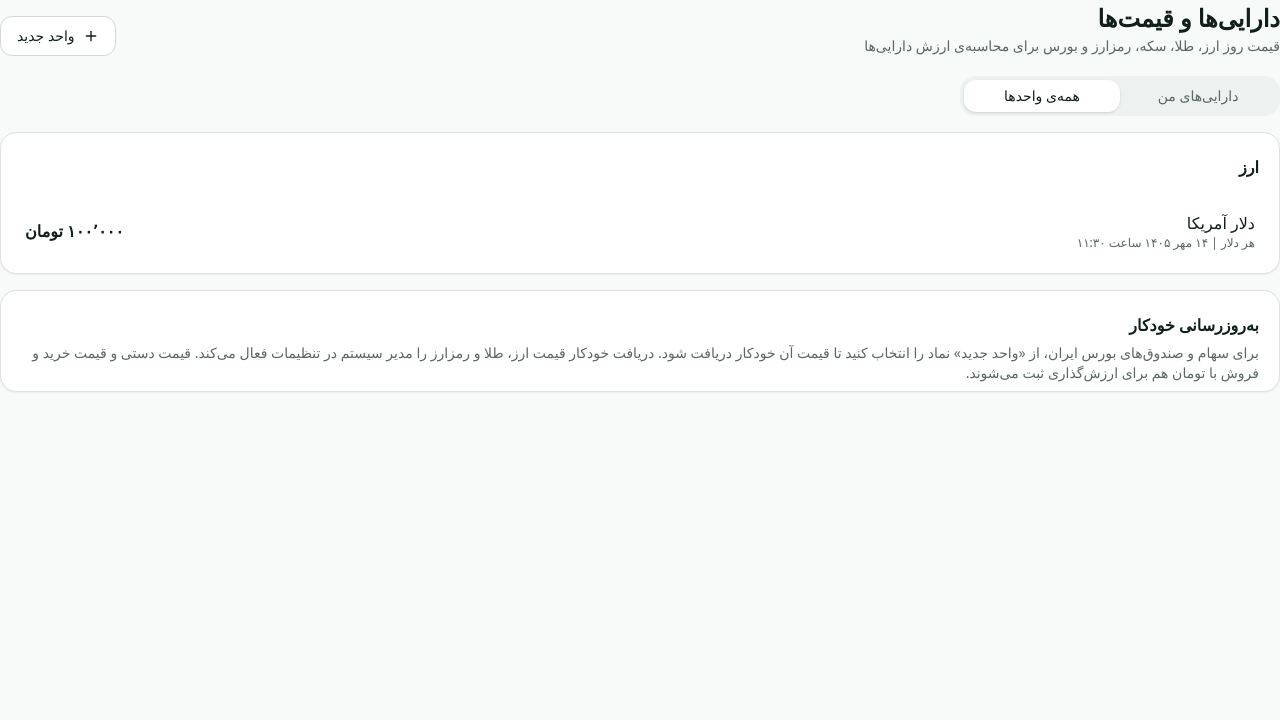
Test case: Iranian securities › clears a selected symbol when the search text changes
This screenshot has width=1280, height=720.
Click the button "واحد جدید": (58, 36) x1=0 y1=16 x2=116 y2=56
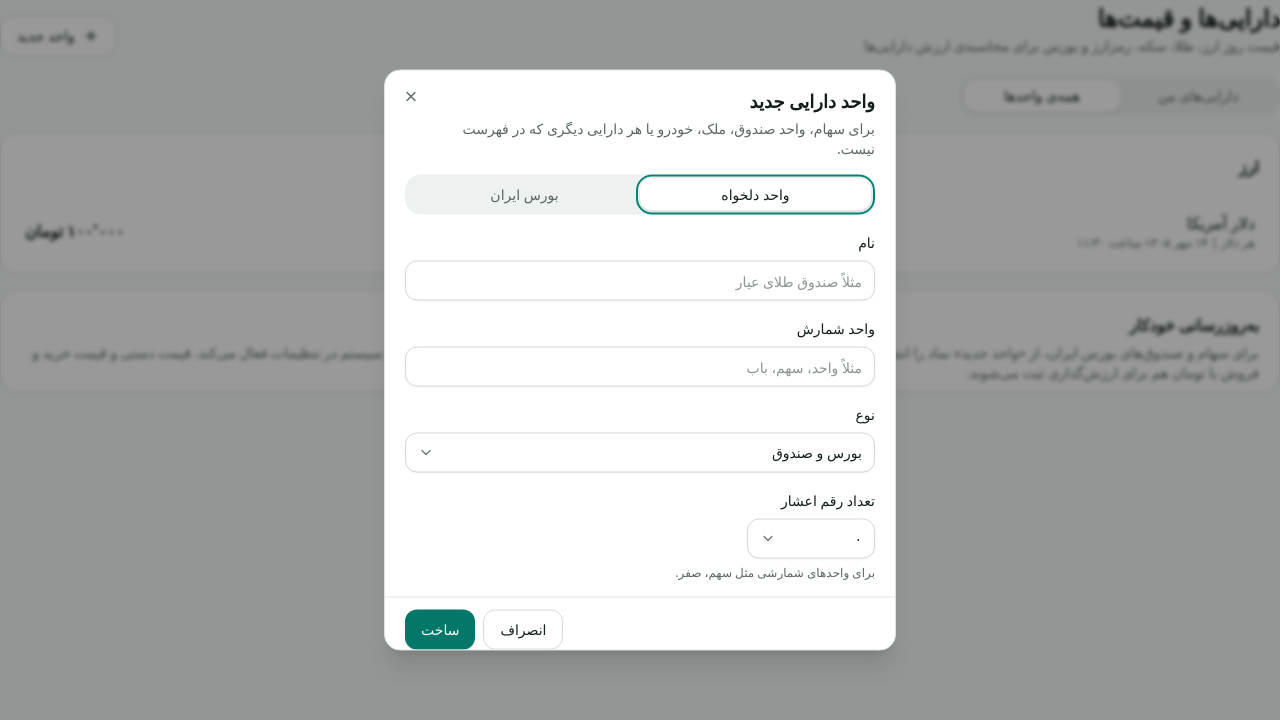
Click the radio button labelled "بورس ایران": (524, 194) x1=409 y1=178 x2=640 y2=210
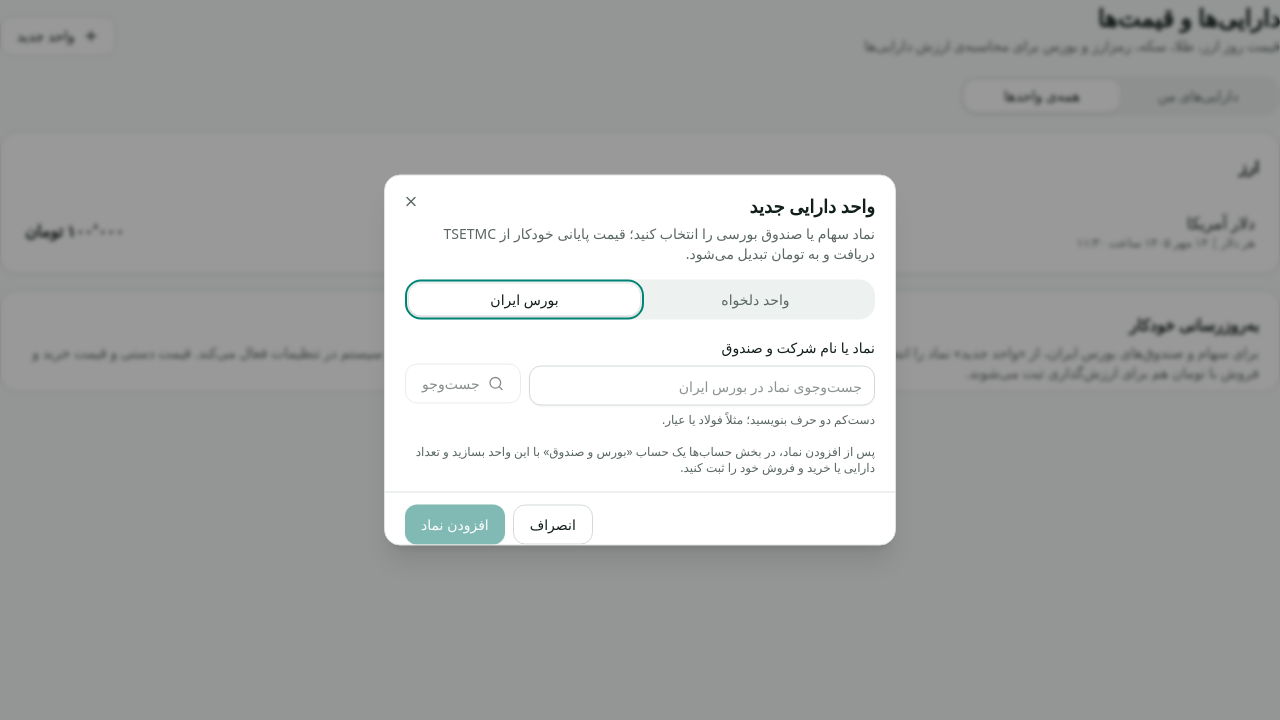
In the field labelled "نماد یا نام شرکت و صندوق": (702, 386) x1=528 y1=366 x2=875 y2=406, type "فولاد"
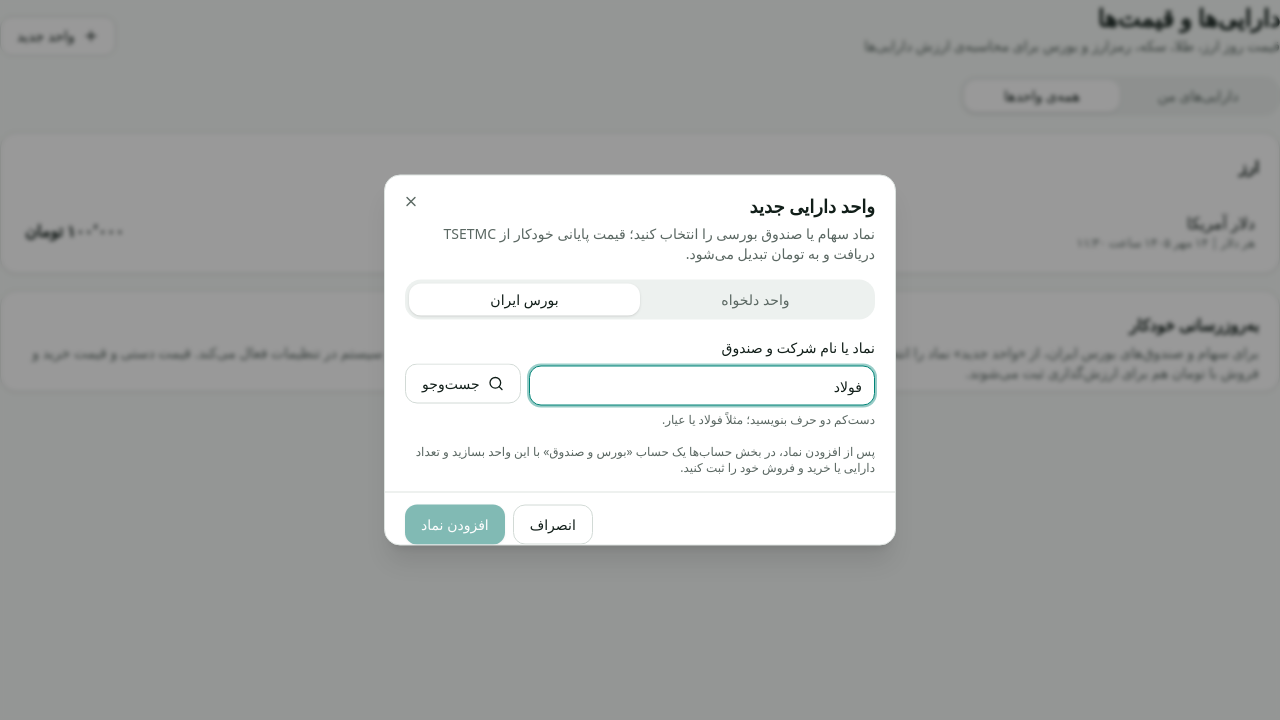
Click the button "جست‌وجو": (463, 384) x1=405 y1=364 x2=520 y2=404
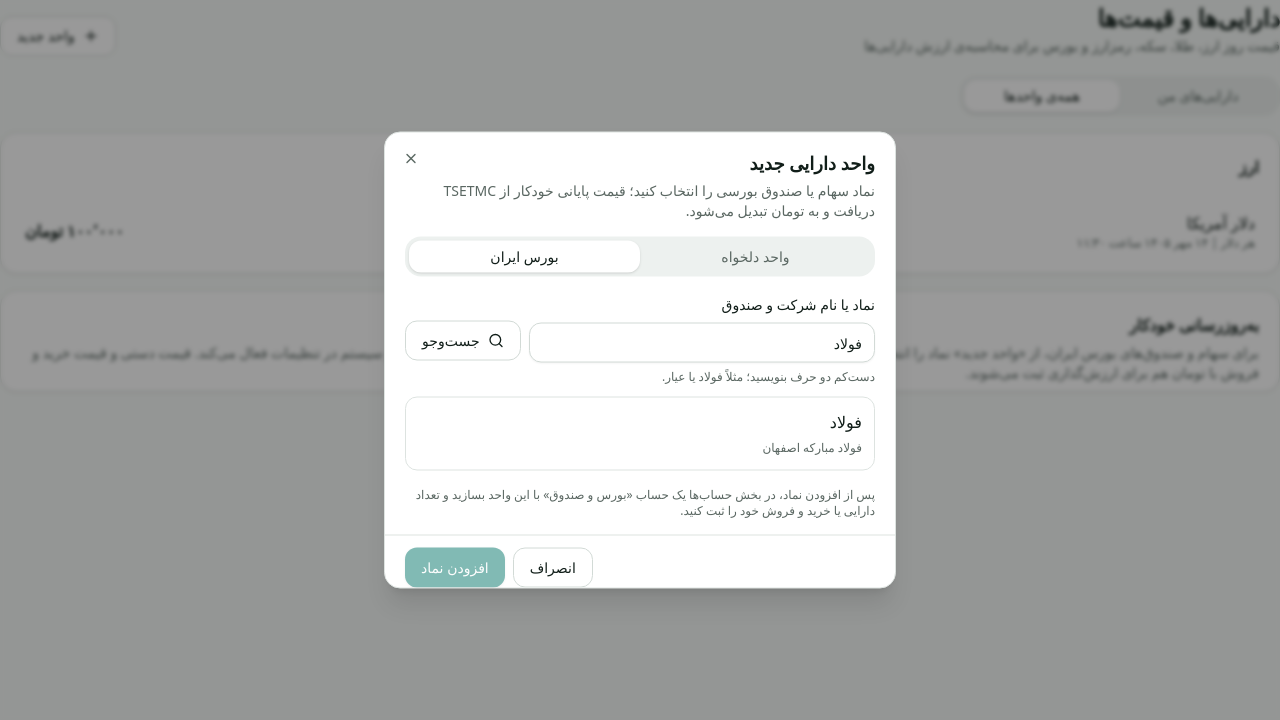
Click the radio button labelled "فولاد فولاد مبارکه اصفهان": (846, 422) x1=406 y1=398 x2=874 y2=470
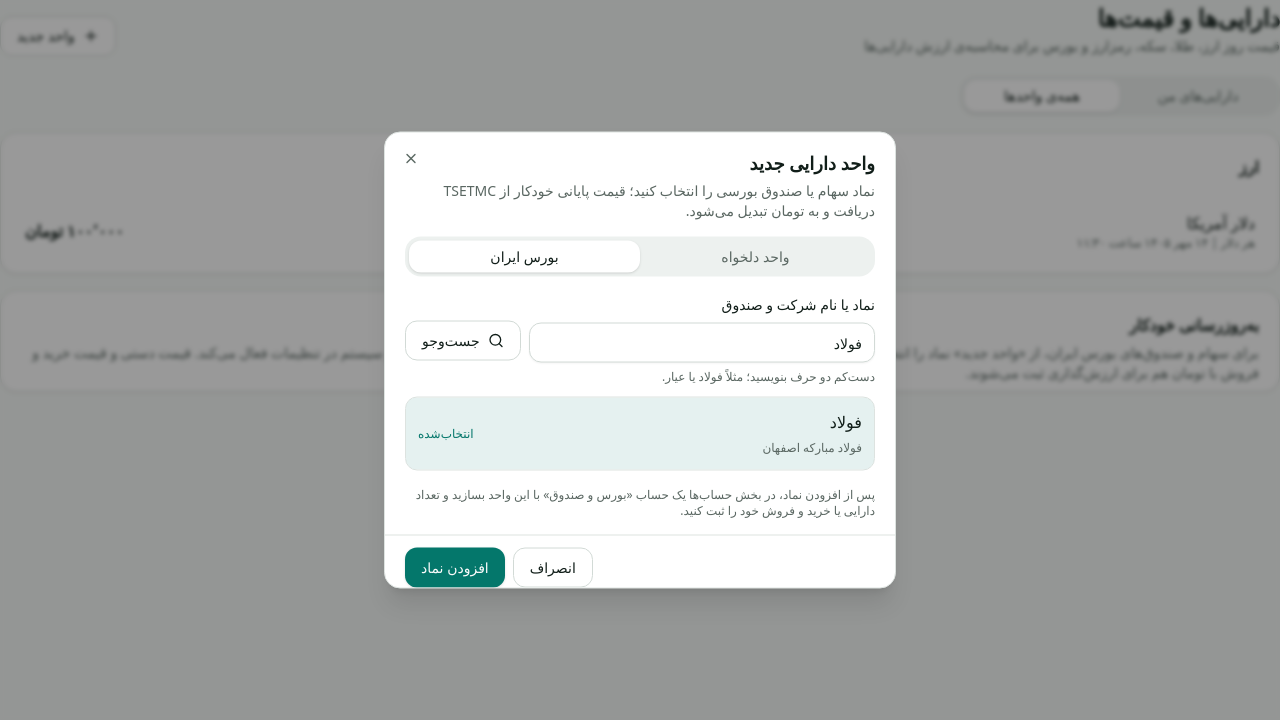
Now the button "افزودن نماد" is enabled, box x1=405 y1=548 x2=505 y2=588
In the field labelled "نماد یا نام شرکت و صندوق": (702, 342) x1=528 y1=322 x2=875 y2=362, type "ا"
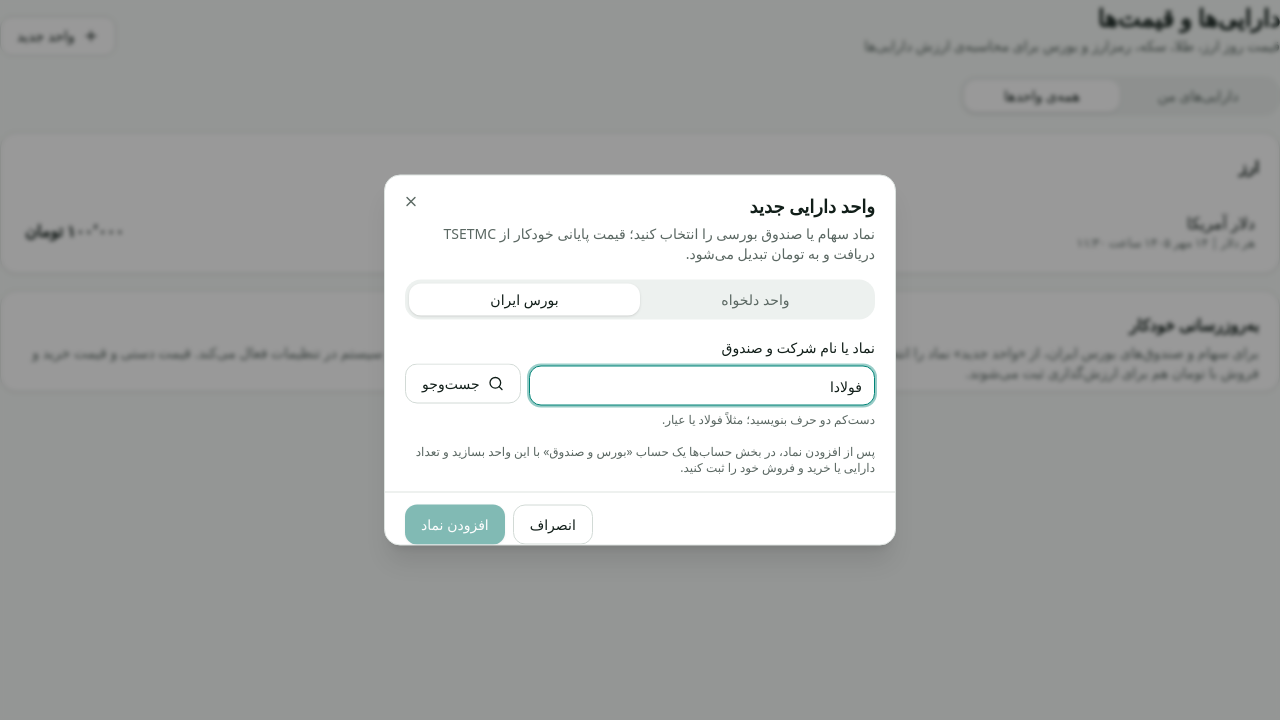
Now the button "افزودن نماد" is disabled, box x1=405 y1=504 x2=505 y2=544
